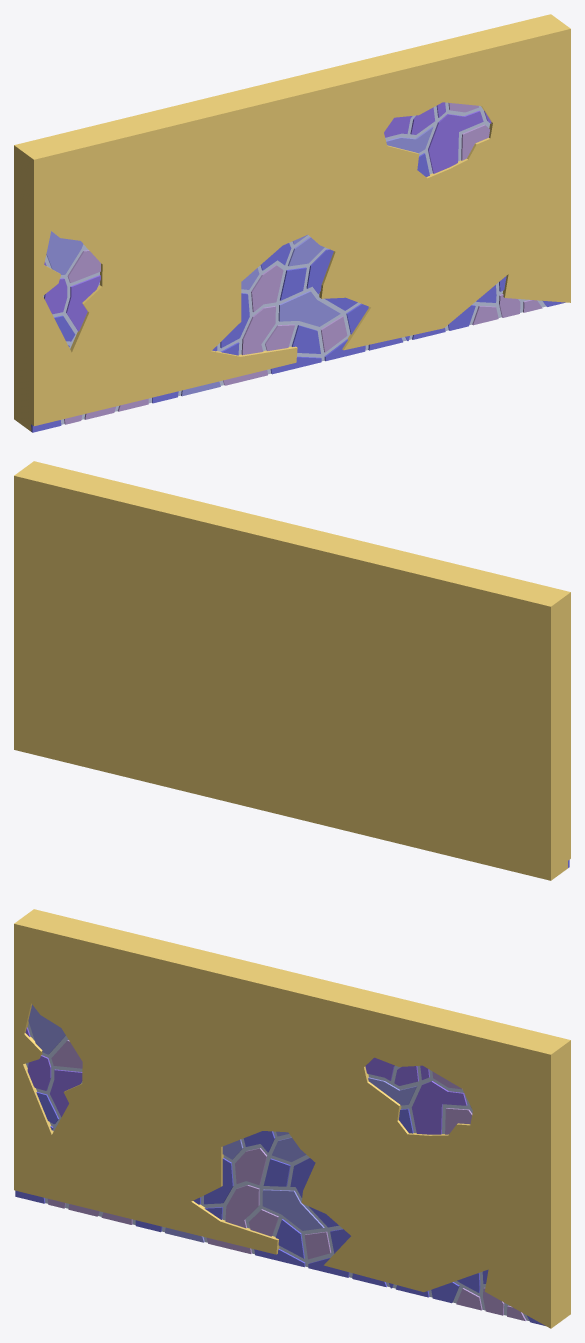
Rendered from MOR_TEP_PAREDES_01_AMARILLO_MITAD.fbx.
The picture shows the model from 3 angles, top to bottom: view 1: azimuth 30°, elevation 25°; view 2: azimuth 150°, elevation 25°; view 3: azimuth 330°, elevation 25°; orthographic projection.
Parts seen in each view (by area): view 1: MOR_TEP_PAREDES_01_AMARILLO_MITAD_LOD0; view 2: MOR_TEP_PAREDES_01_AMARILLO_MITAD_LOD0; view 3: MOR_TEP_PAREDES_01_AMARILLO_MITAD_LOD0.
Part boxes in pixels (x1,y1,x2,y2): MOR_TEP_PAREDES_01_AMARILLO_MITAD_LOD0: [14, 14, 570, 432]; MOR_TEP_PAREDES_01_AMARILLO_MITAD_LOD0: [14, 461, 570, 880]; MOR_TEP_PAREDES_01_AMARILLO_MITAD_LOD0: [14, 909, 570, 1328].
Size of what is drawn, in the model's own units: 393 by 192 by 25.36.
